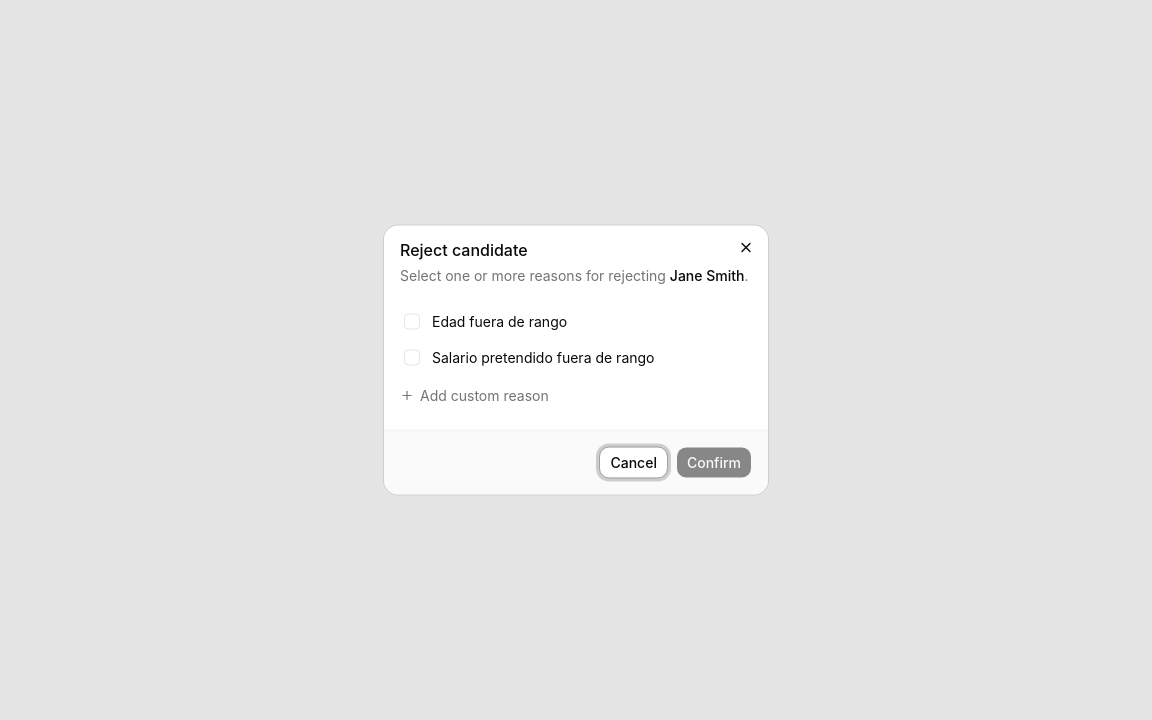
RejectModal › enables Confirm after selecting at least one reason
This screenshot has width=1152, height=720.
Click the checkbox labelled "Edad fuera de rango": x=500, y=322 [432,314,567,328]
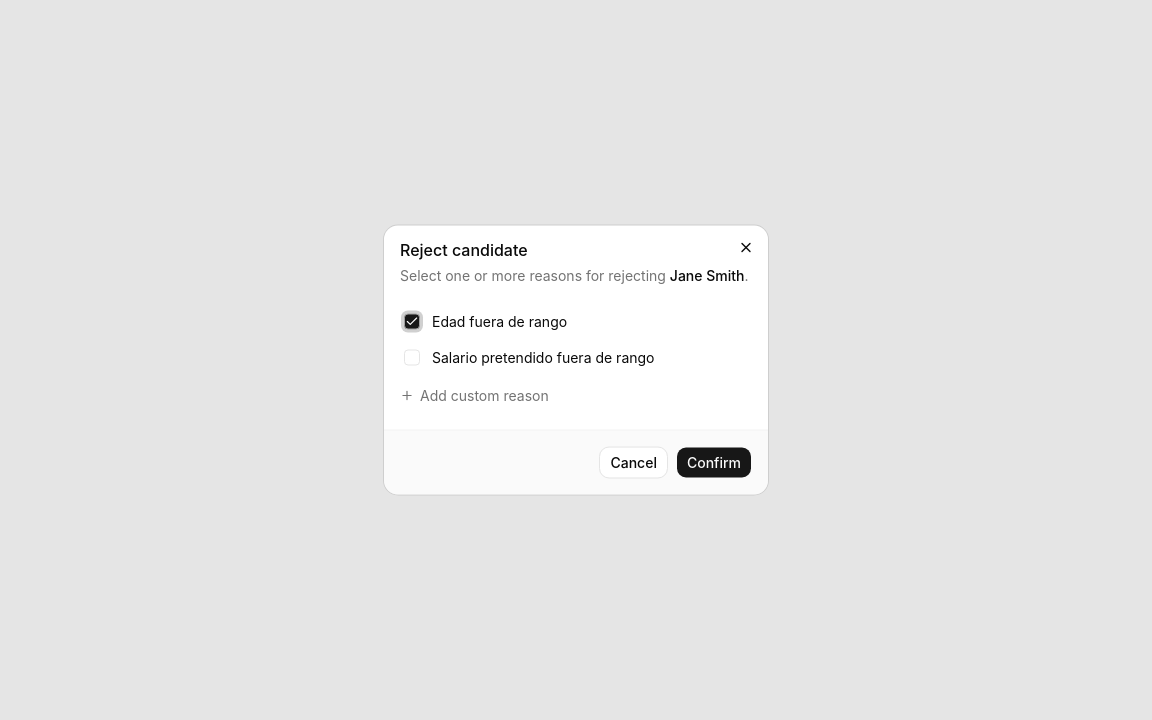
Result: the button "Confirm" is enabled at [676,446,752,478]
